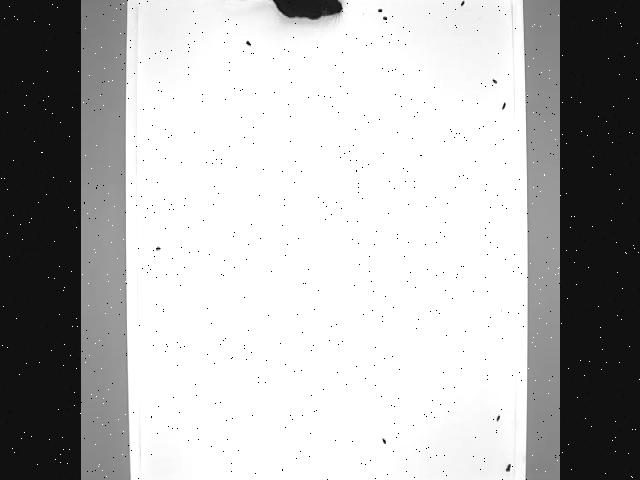Tikus: (215, 0, 345, 37)
